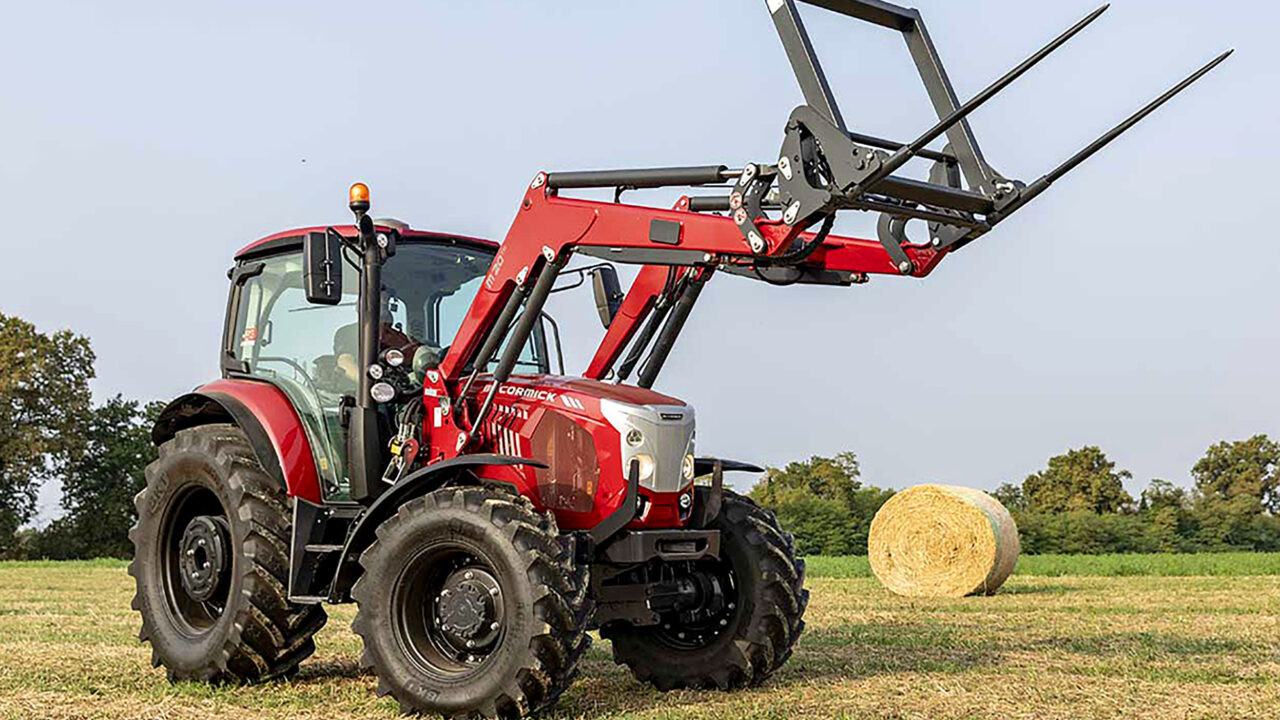tractor: (126, 0, 1237, 720)
